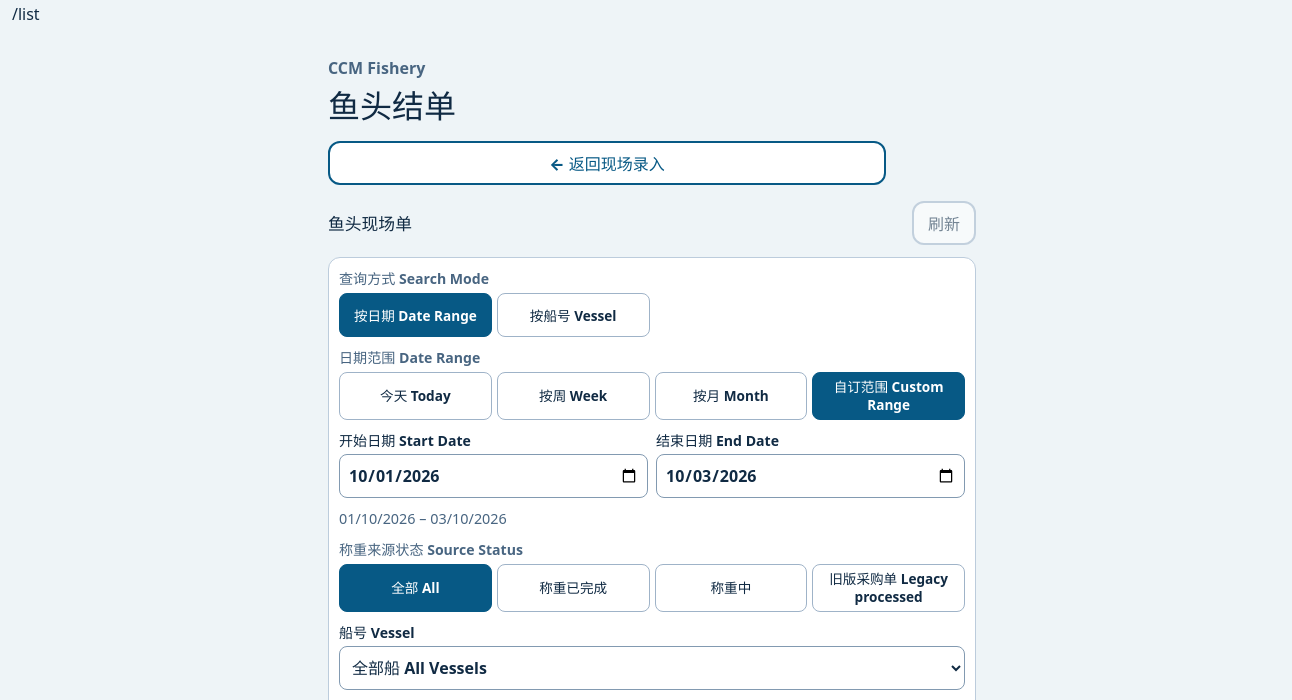
Test: fish_head shared date-first search › ignores stale results and errors after query replacement
Step 1. Type "2026-09-01" into the date field labelled "开始日期 Start Date" → {"x": 494, "y": 476}, box [339,454,648,498]
(page scrolled)
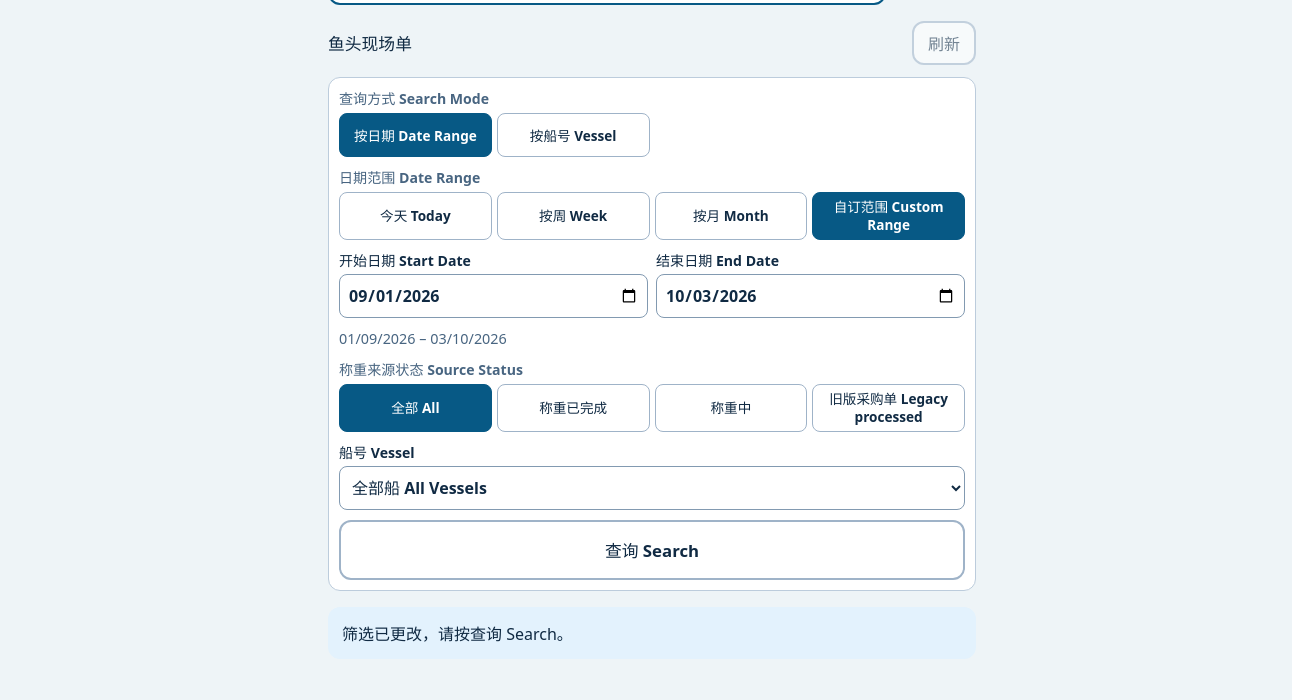
Step 2. Click the button "查询 Search" → {"x": 652, "y": 550}, box [339,520,965,580]
(page scrolled)
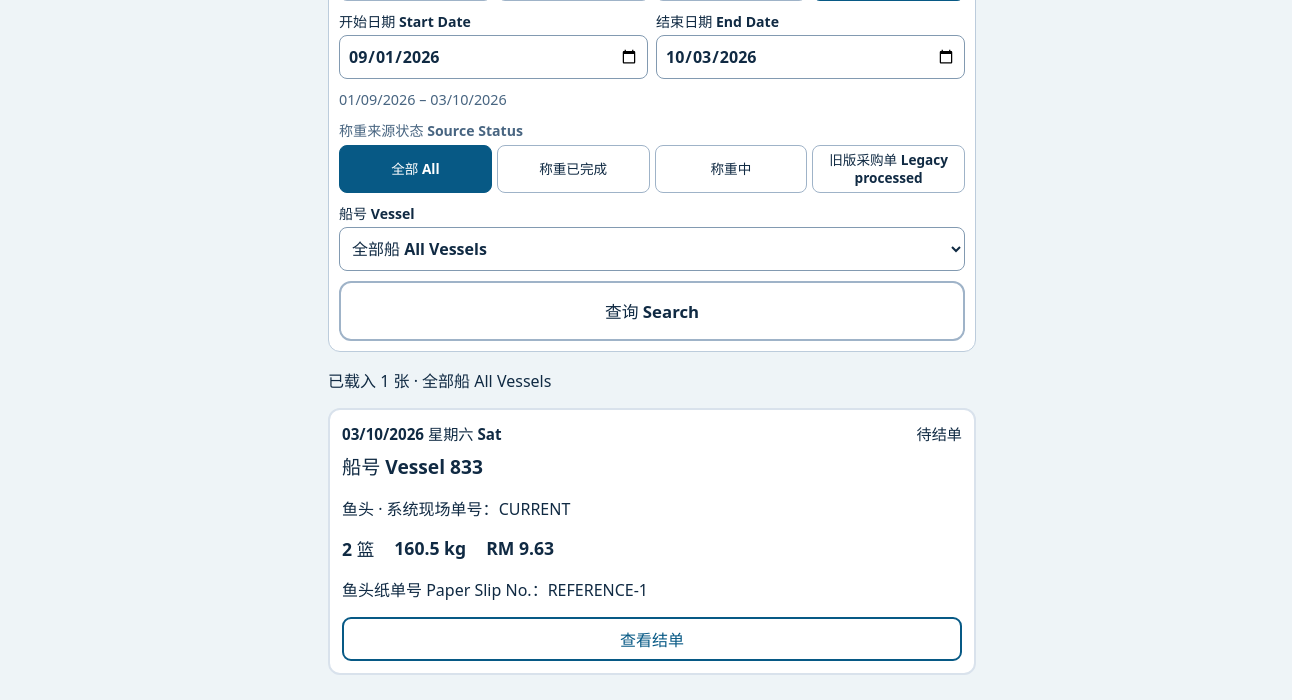
Expected: the element named "现场单 CURRENT" is shown, [328,408,976,675]
